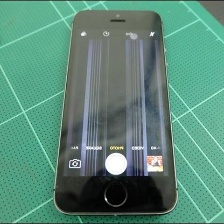phone: (49, 6, 182, 219)
